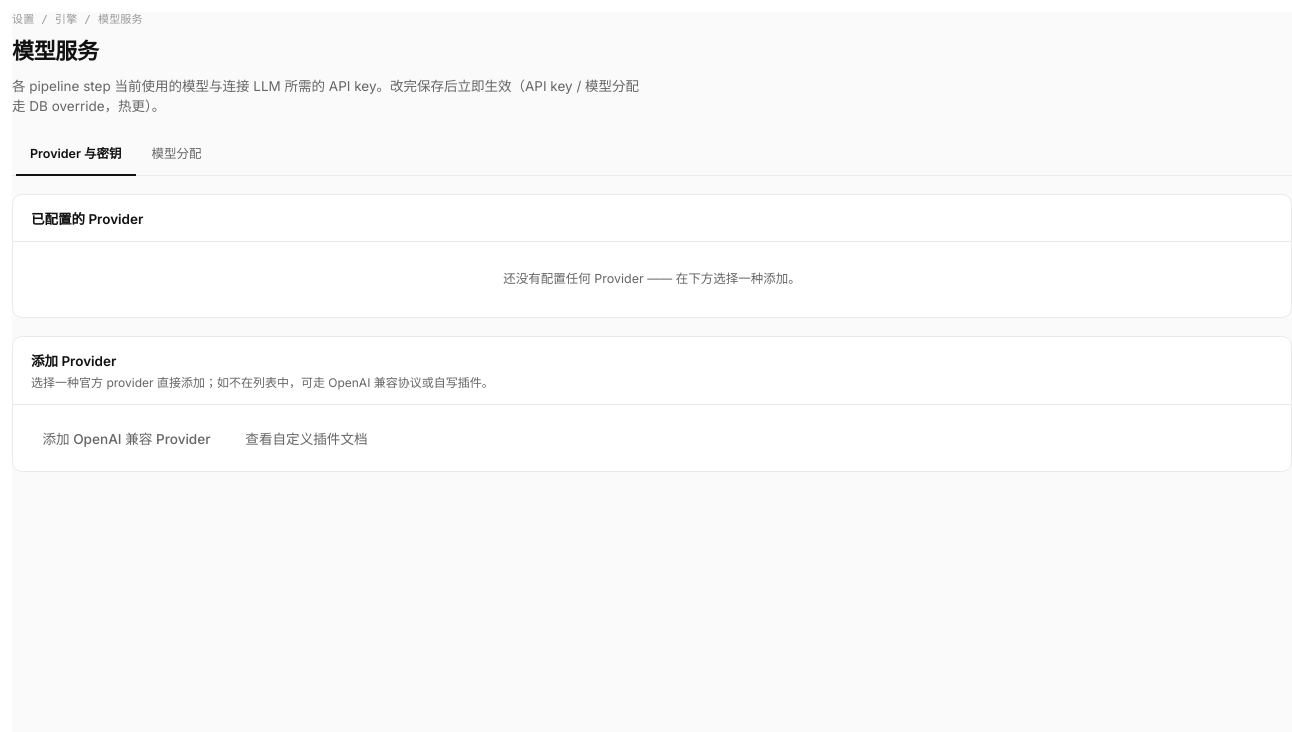
Scenario: GroupLLM · pipeline matrix › renders inline toggle for verifier and relator only
Click the tab "模型分配" at point(176, 156), box [138,135,216,176]
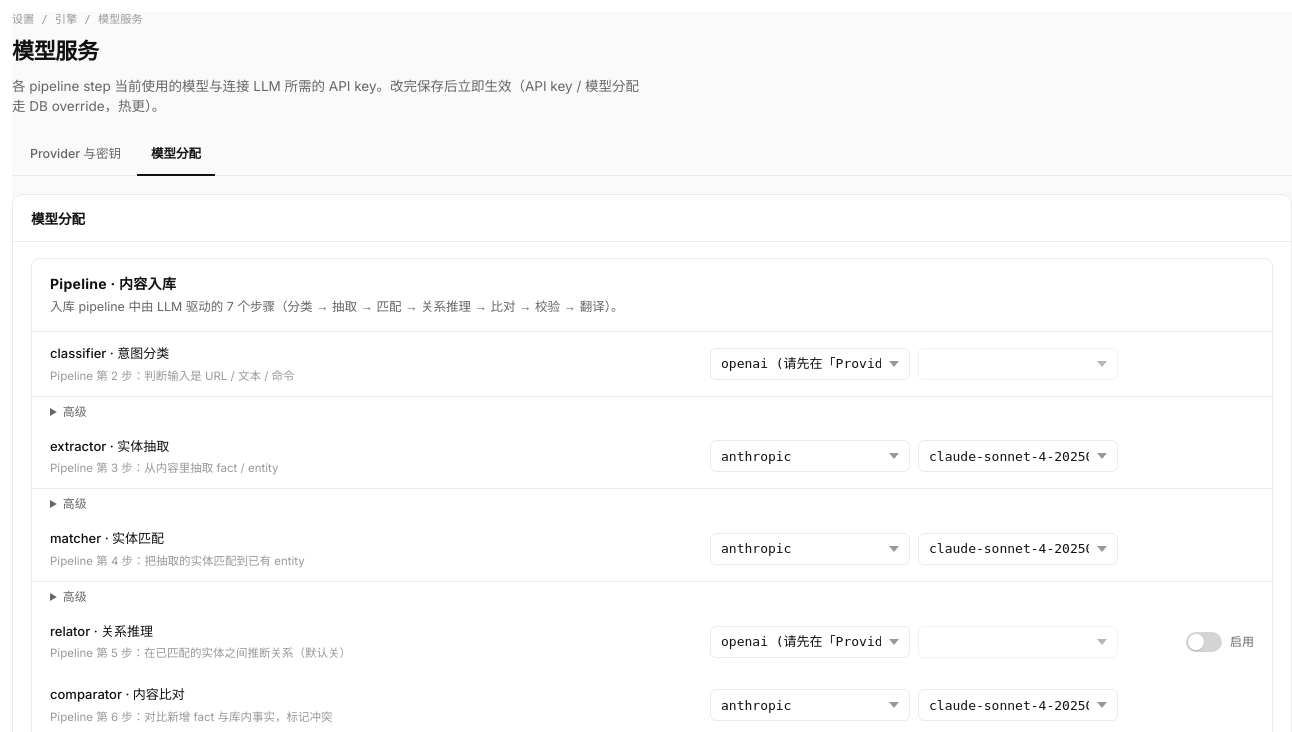
Now the button named "启用 relator" is shown, box [1186,632,1222,652]
